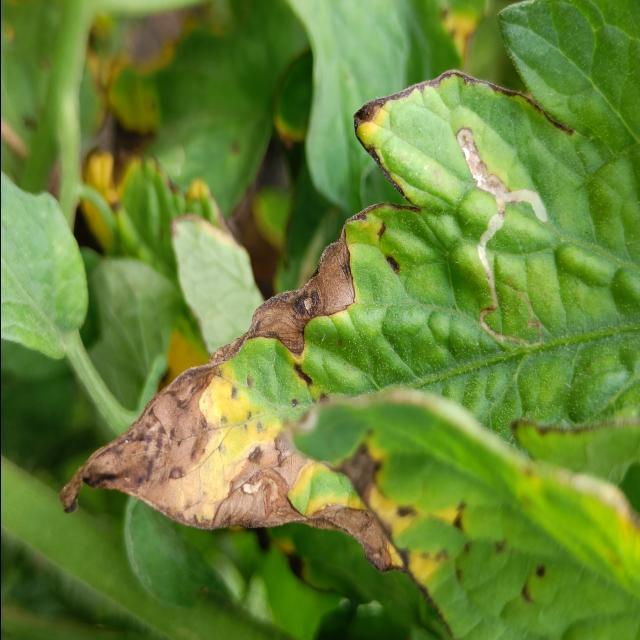Tomato mosaic virus leaf: (55, 222, 362, 540)
